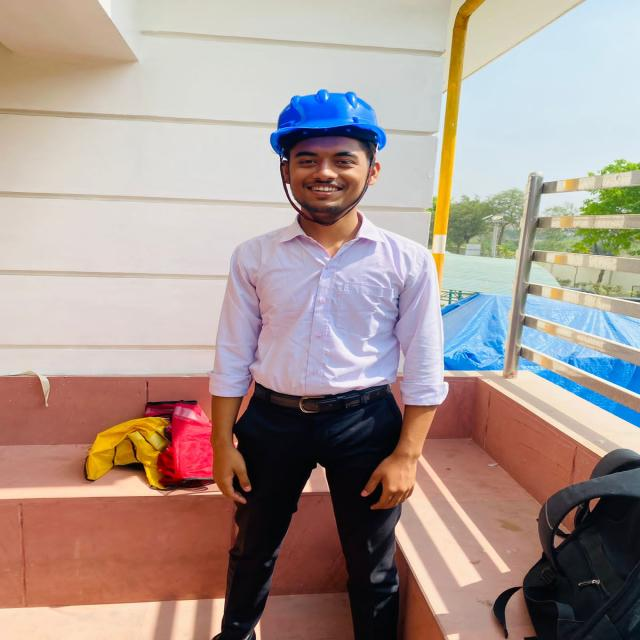no jacket: (212, 93, 443, 640)
